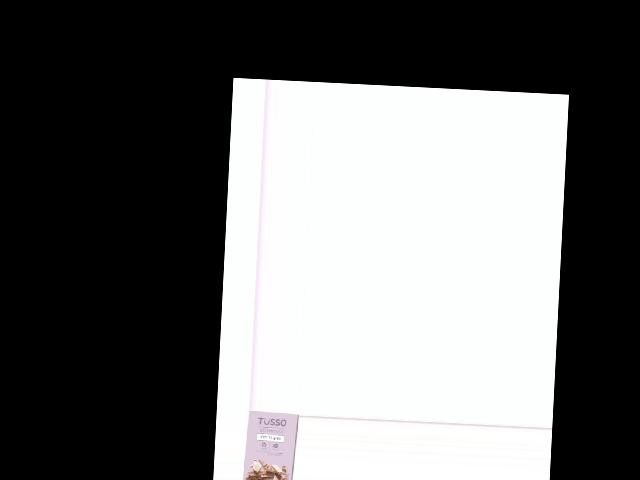chocolate: (242, 412, 295, 480)
